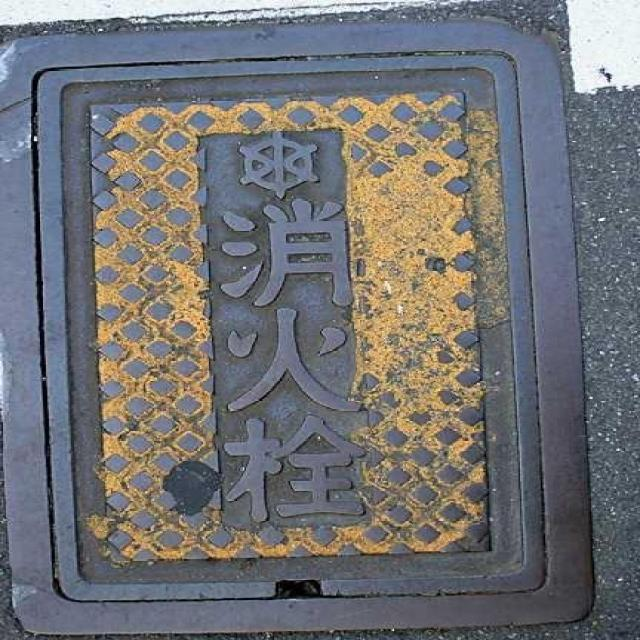manhole: (0, 21, 594, 639)
